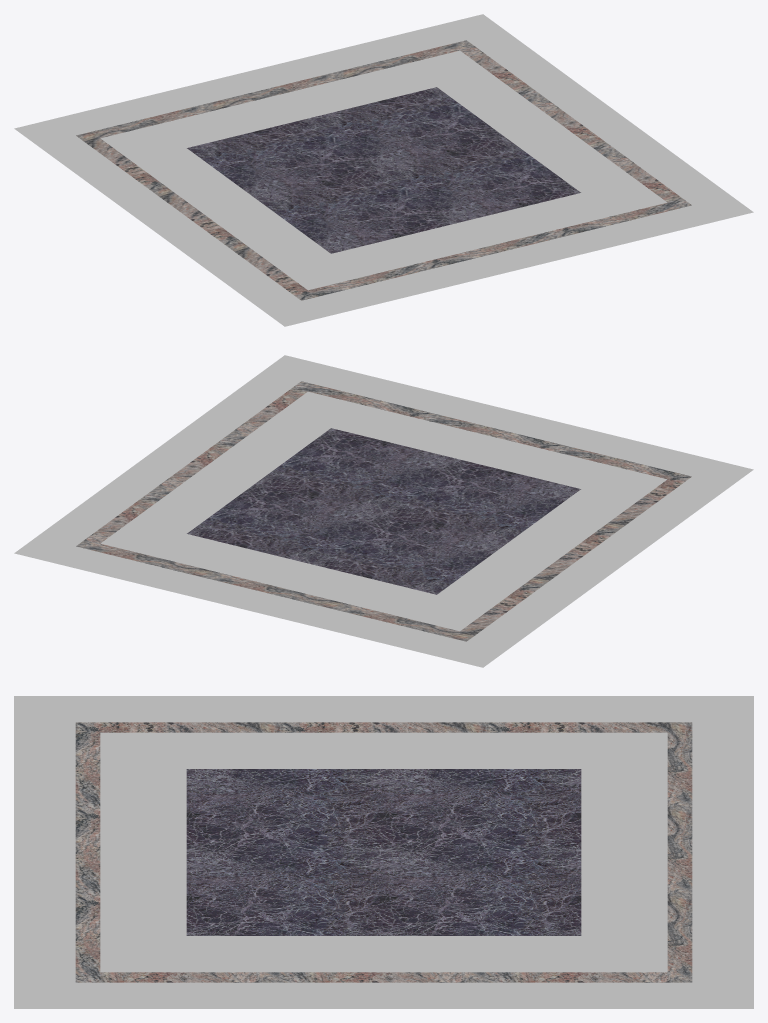
The model's file is Floor_1.FBX.
3 renders of one model, top to bottom at view 1: azimuth 30°, elevation 25°; view 2: azimuth 150°, elevation 25°; view 3: azimuth 270°, elevation 25°, orthographic. The views are drawn at different scales.
Visible parts, largest first — view 1: Floor_1; view 2: Floor_1; view 3: Floor_1.
Boxes of the visible parts, x1,y1,x2,y2 form: Floor_1: (14,14,753,326); Floor_1: (14,355,753,667); Floor_1: (14,696,753,1008).
Bounding box in the file's own units: 6 × 1.06e-06 × 6.
